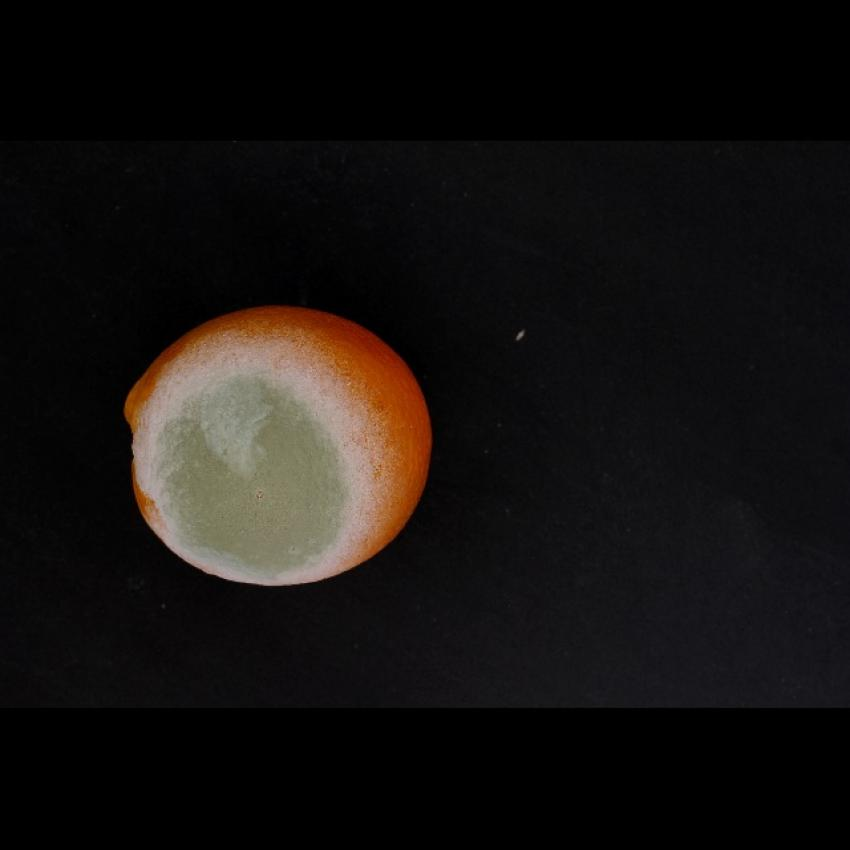Mal estado: (111, 296, 436, 596)
